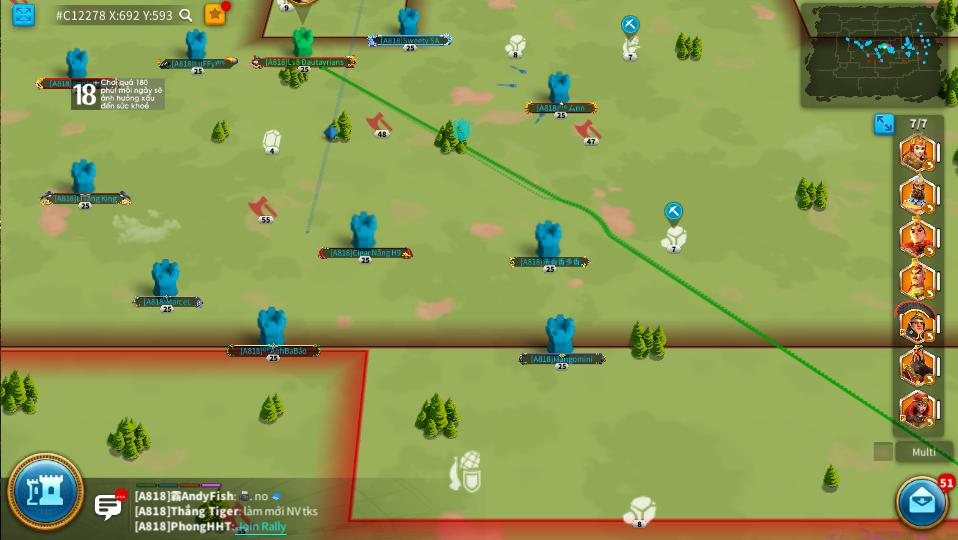gem-z-out: (262, 129, 281, 154)
march_idle: (574, 120, 602, 147), (250, 198, 278, 223), (368, 112, 392, 137)
march_returning: (924, 288, 935, 300), (924, 374, 936, 385), (924, 160, 935, 171), (924, 202, 935, 213), (925, 245, 935, 256), (925, 332, 935, 342), (925, 417, 935, 427)
